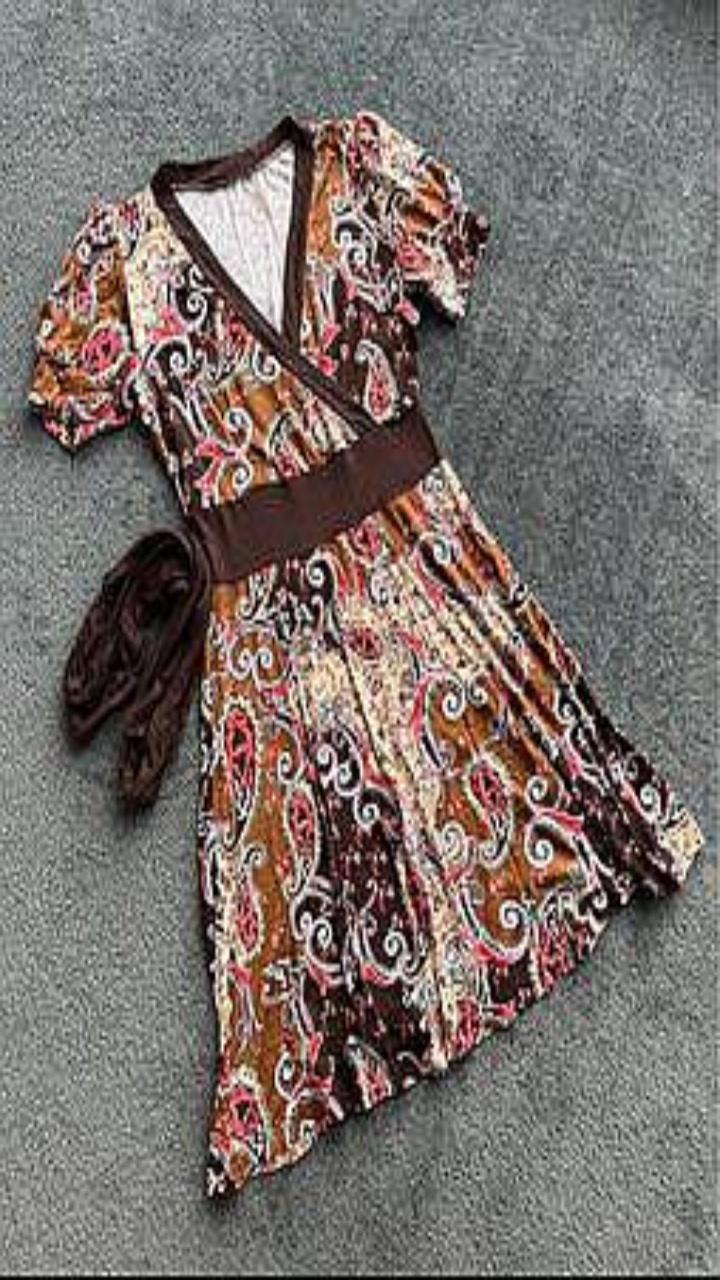Dresses: (30, 111, 701, 1194)
